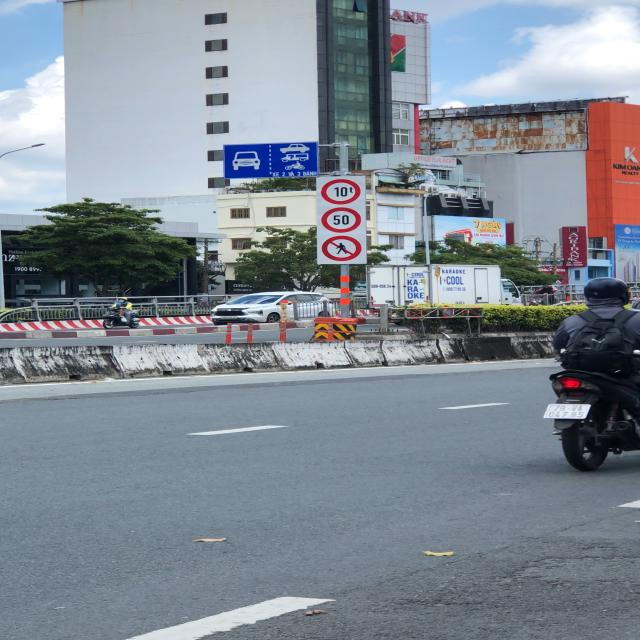Bien bao cam nguoi di bo: (320, 234, 362, 263)
Bien bao toc do toi da cho phep: (320, 207, 362, 234)
